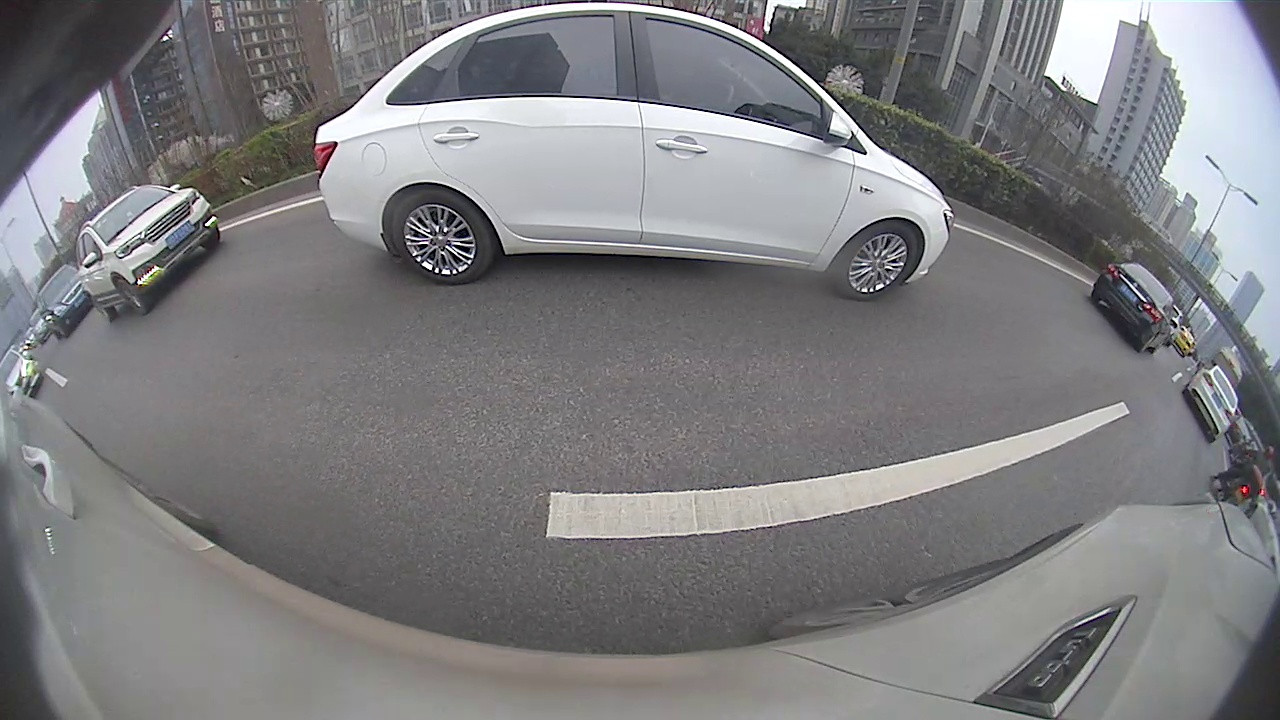bus: (1054, 174, 1278, 397), (818, 143, 956, 199), (2, 292, 64, 387)
car: (830, 165, 950, 226), (769, 161, 823, 190), (693, 157, 741, 186), (614, 160, 643, 181)
front: (1092, 249, 1124, 291), (829, 184, 846, 204)
rear: (1233, 341, 1266, 397), (876, 194, 892, 216)
